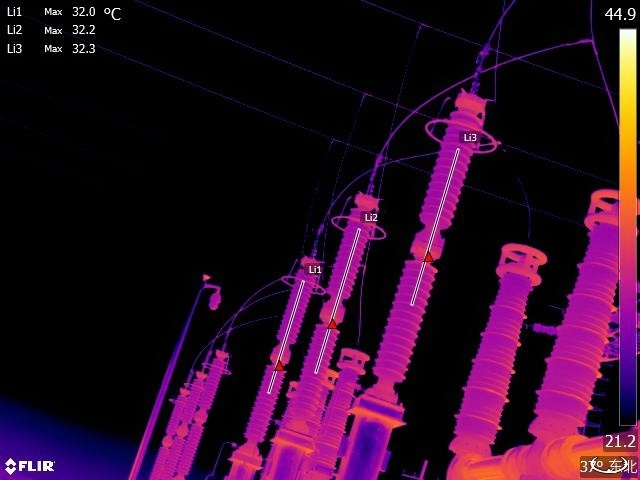lightning arrester: (364, 81, 500, 395), (285, 181, 392, 435), (245, 242, 333, 447), (179, 336, 233, 473), (164, 352, 208, 478), (147, 377, 191, 480)
tube: (527, 185, 640, 441), (451, 230, 549, 462), (304, 339, 372, 474)
